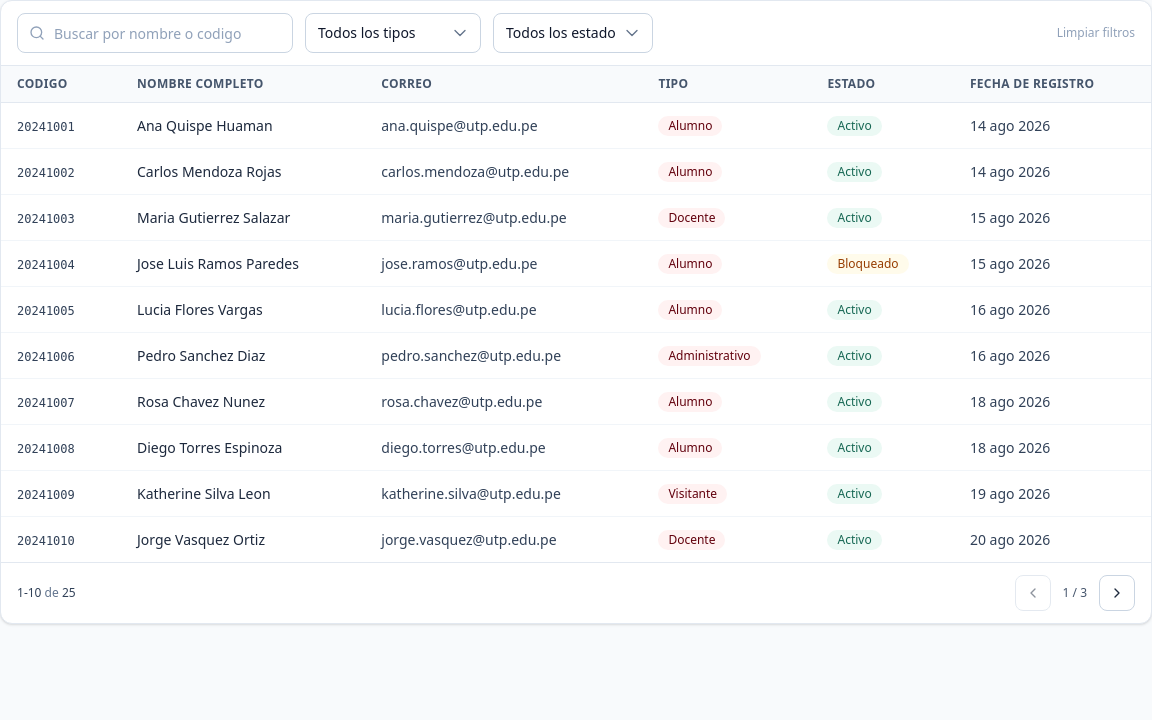
Test case: UsuariosPage (RFA01) › filtra por tipo de usuario
Expected: the text "Ana Quispe Huaman" is shown, [137,116,273,134]
Select "Docente" in the dropdown named "Filtrar por tipo de usuario". click: (393, 33)
box: [305,13,481,53]
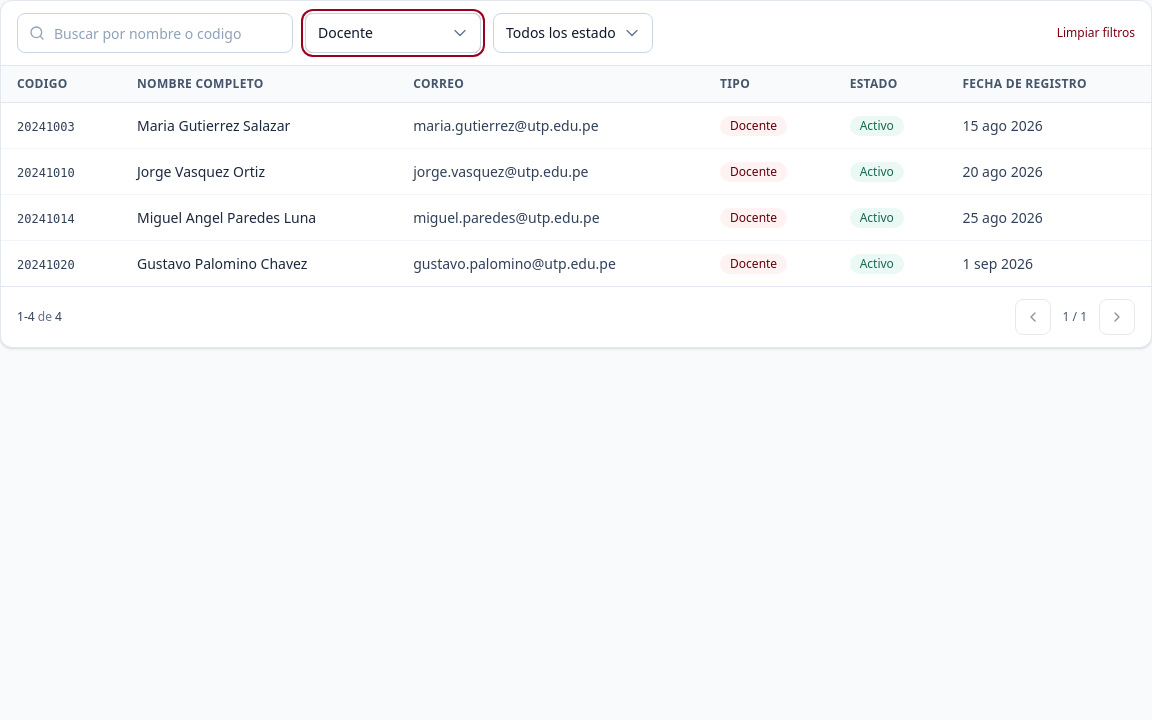
Expected: the text "Maria Gutierrez Salazar" is shown, [137,116,290,134]
Result: the button "Ana Quispe Huaman" is gone
